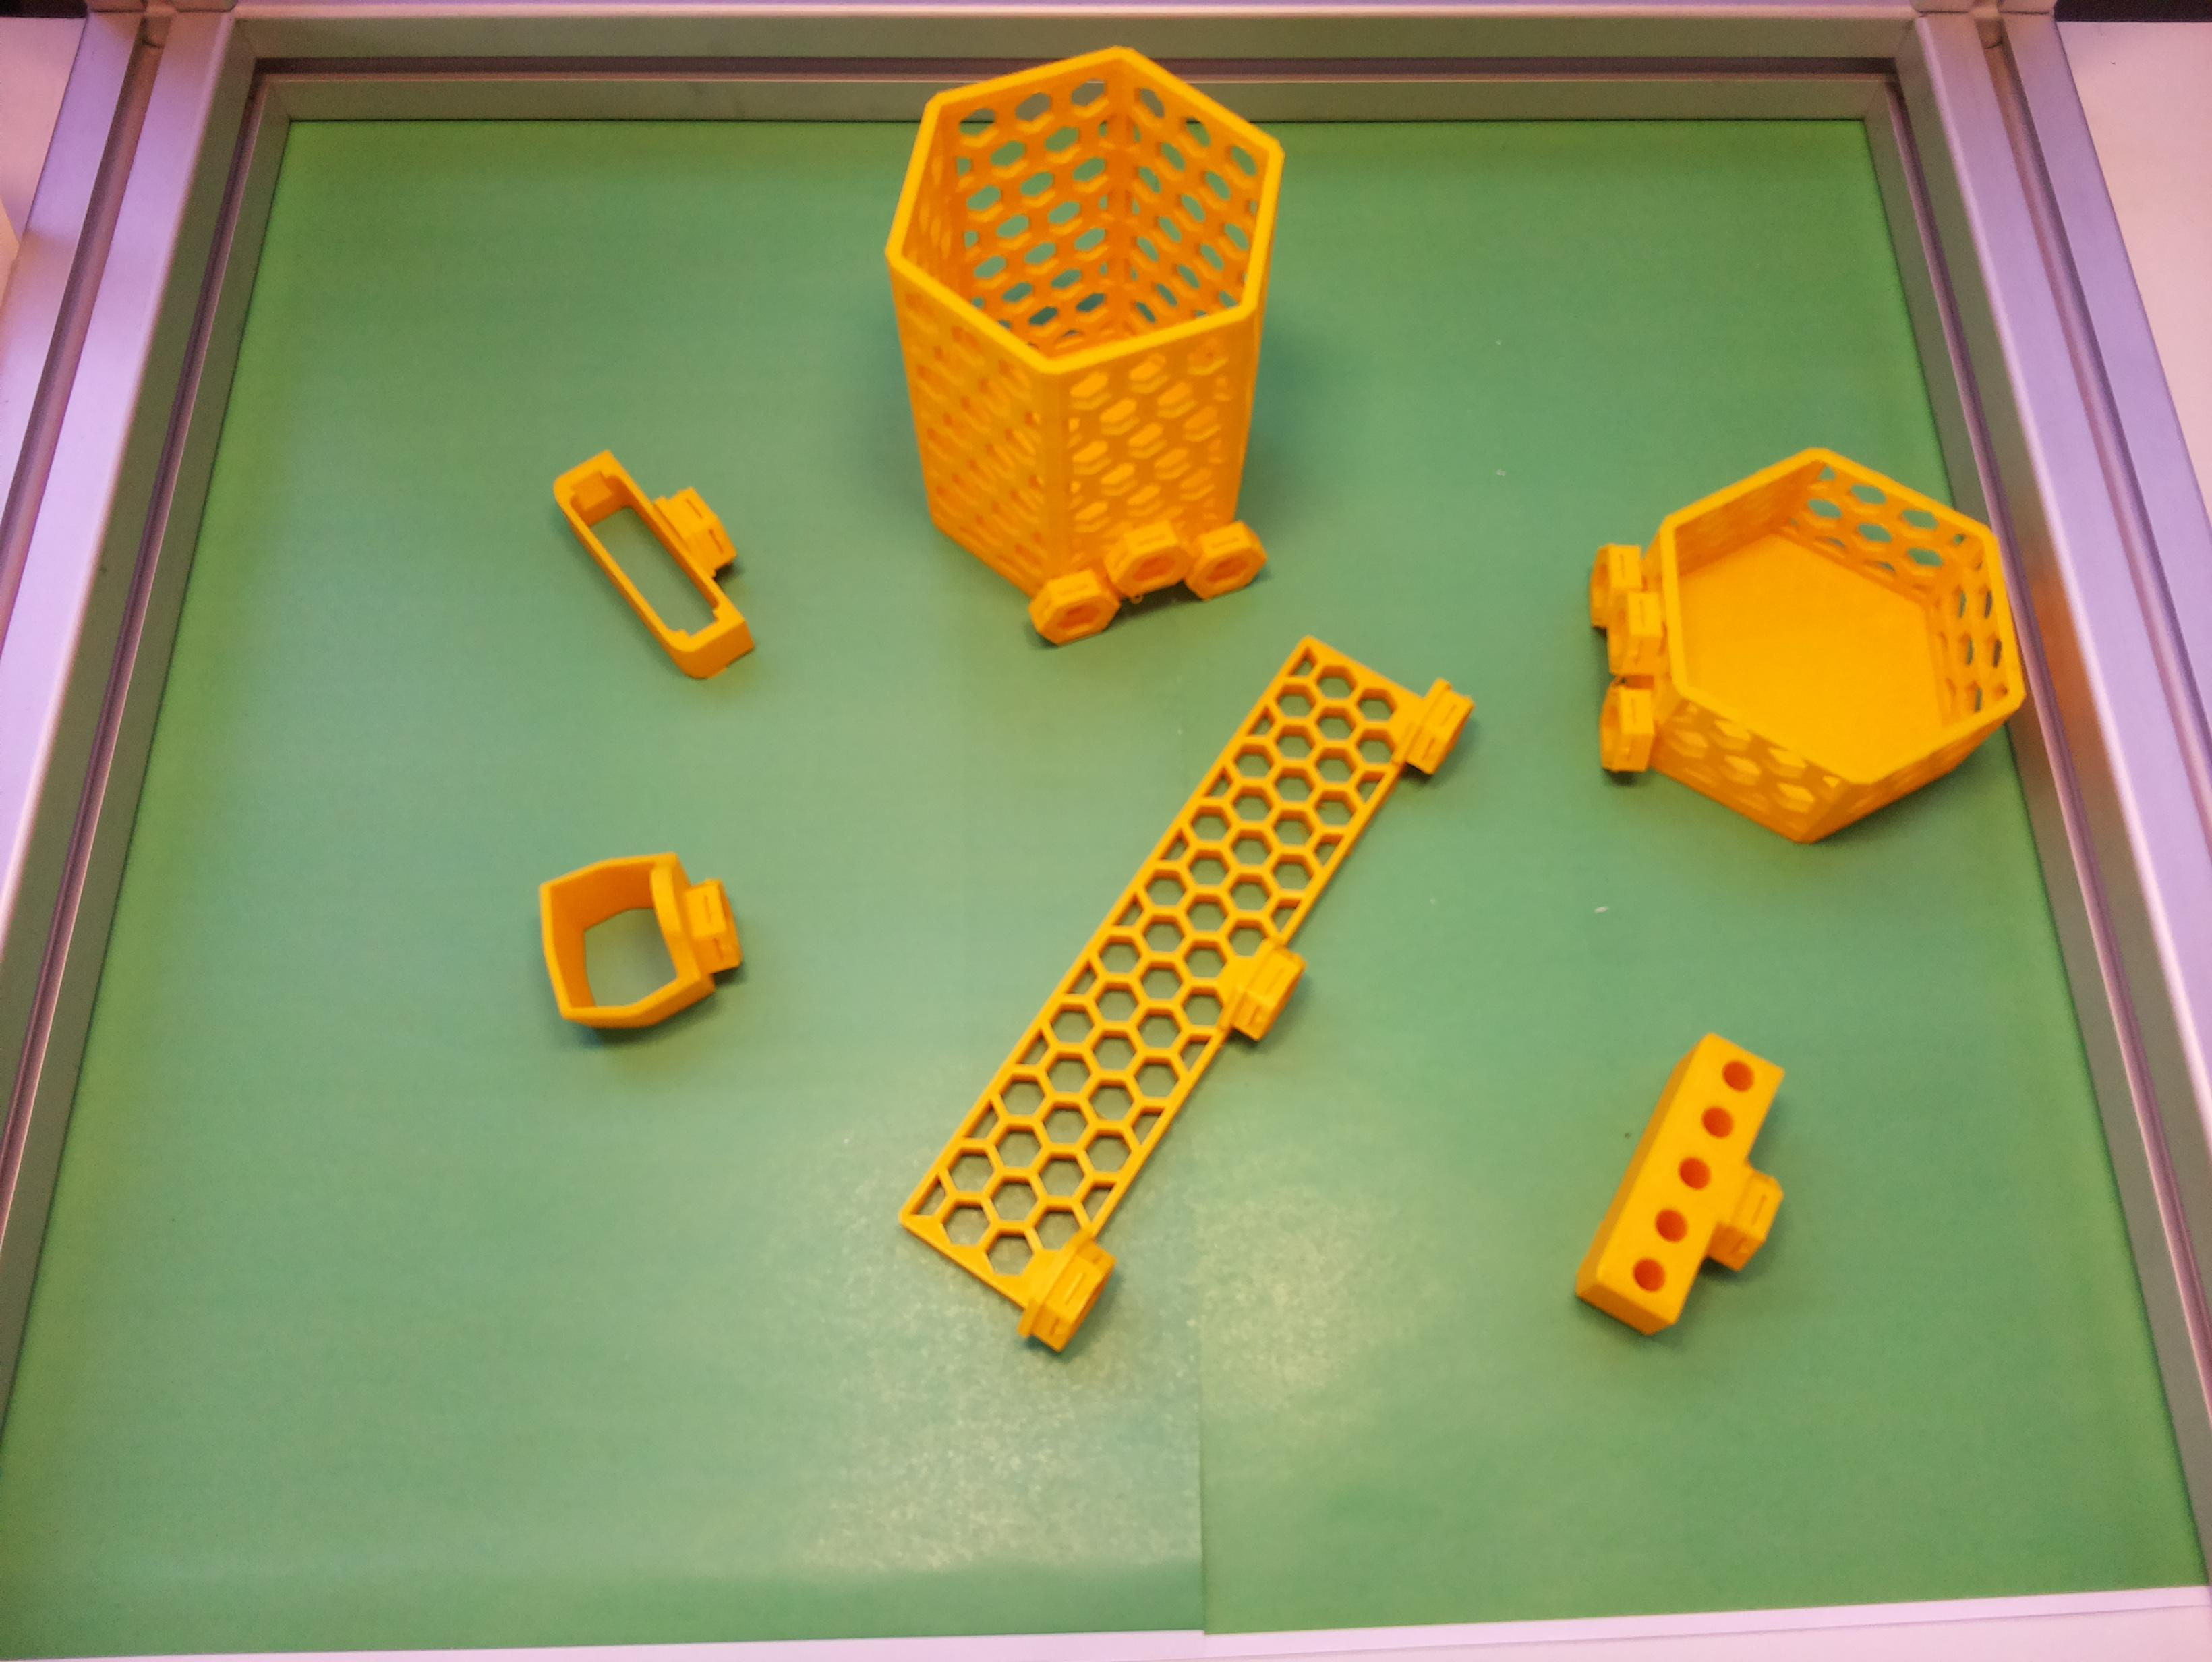bit_holder: (1559, 1025, 1838, 1362)
bottle_holder: (1519, 395, 2078, 908)
cup_holder: (869, 38, 1287, 651)
cutter_holder: (543, 415, 791, 693)
scissor_holder: (529, 838, 751, 1042)
tool_holder: (880, 588, 1480, 1360)
